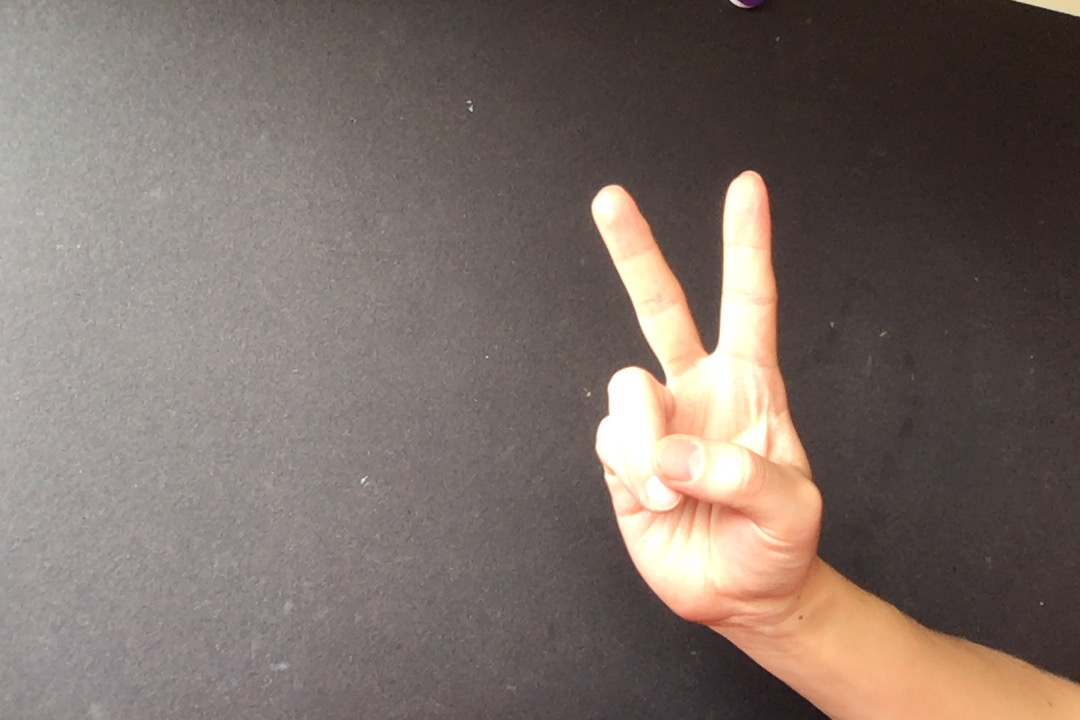peacesign: (569, 166, 830, 641)
